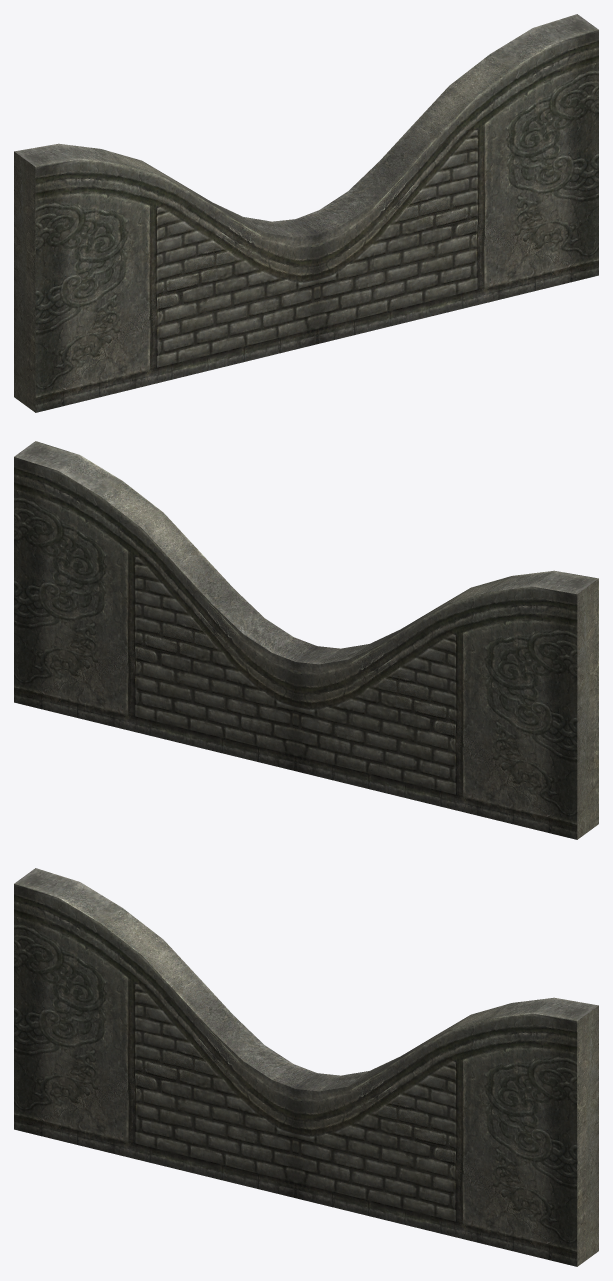
File: dawnmist_wall01.glb
3 views of the same model, one above another, from view 1: azimuth 30°, elevation 25°; view 2: azimuth 150°, elevation 25°; view 3: azimuth 330°, elevation 25° (orthographic).
Visible parts, largest first — view 1: DawnMist_wall01; view 2: DawnMist_wall01; view 3: DawnMist_wall01.
Part boxes in pixels (bbox=[...]): DawnMist_wall01: bbox=[14, 14, 598, 412]; DawnMist_wall01: bbox=[14, 441, 598, 839]; DawnMist_wall01: bbox=[14, 868, 598, 1266].
Size of the model in its own units: 15.67 by 6.53 by 1.04.
Materials: 1 (1 with a texture image).
